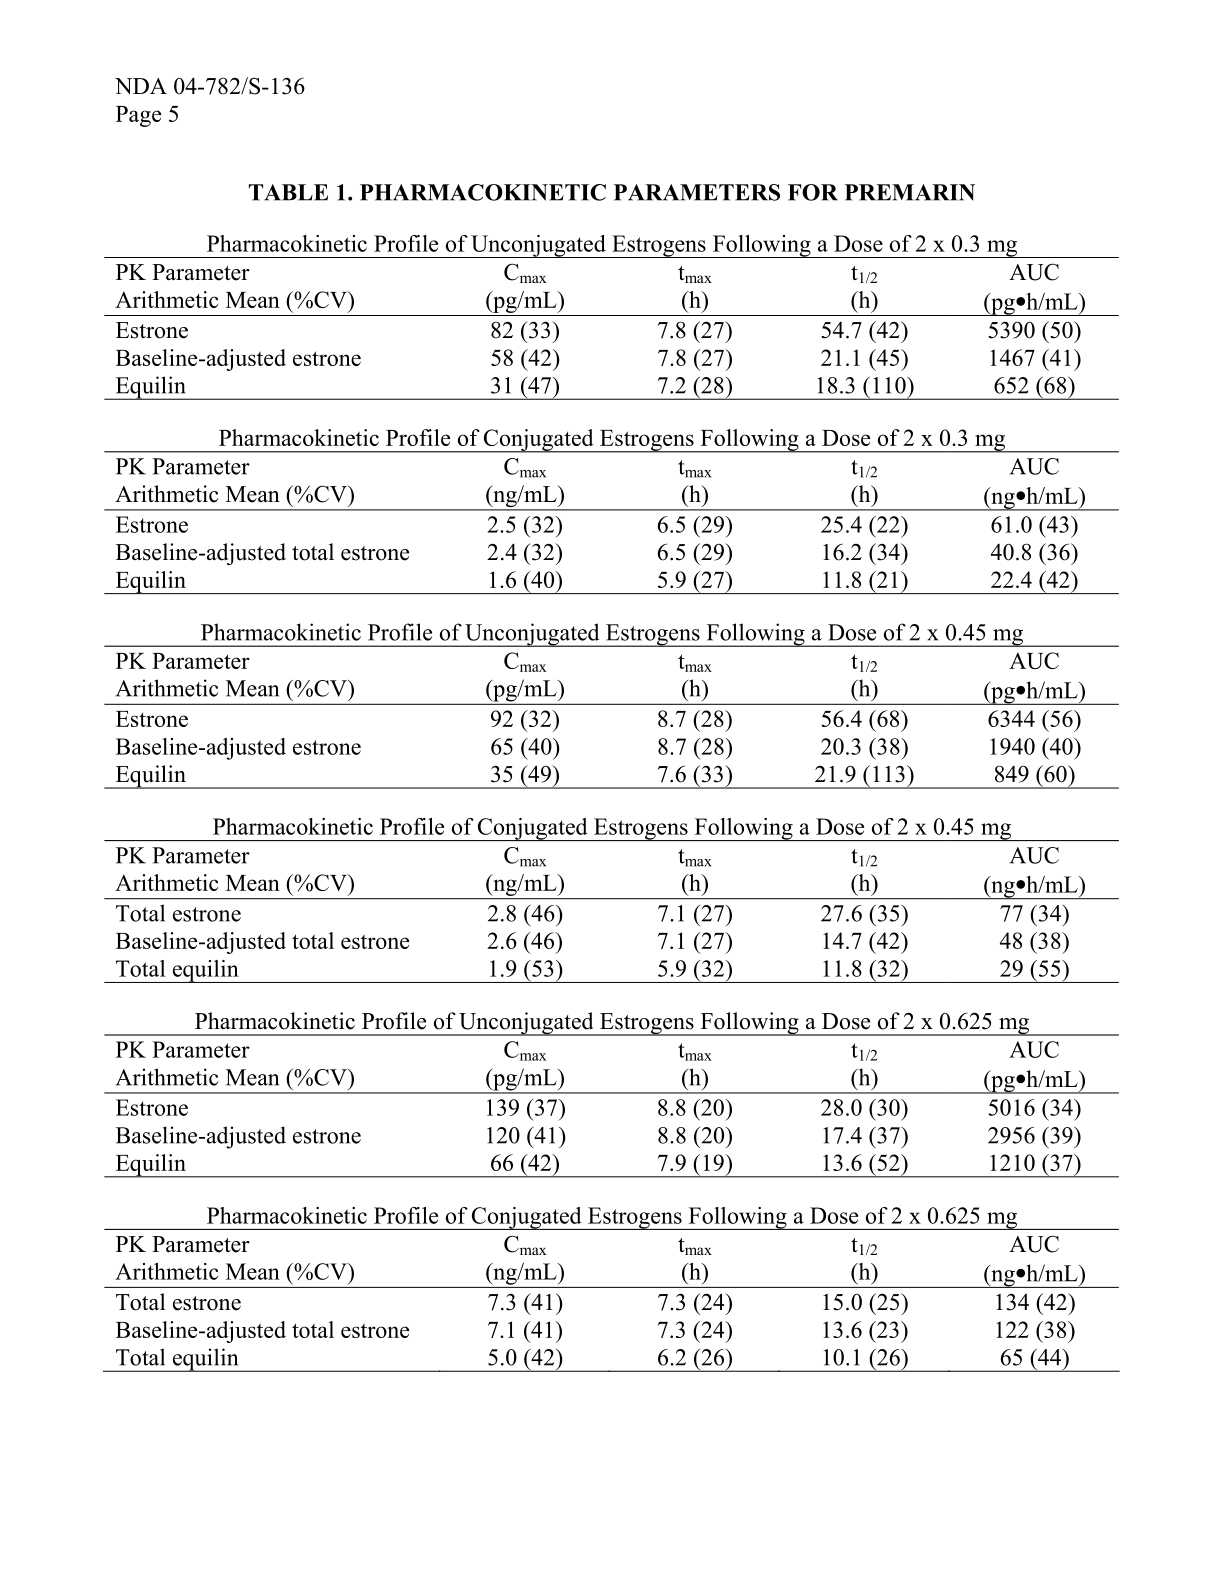partial_lined_merged_cells: (103, 228, 1120, 1373)
